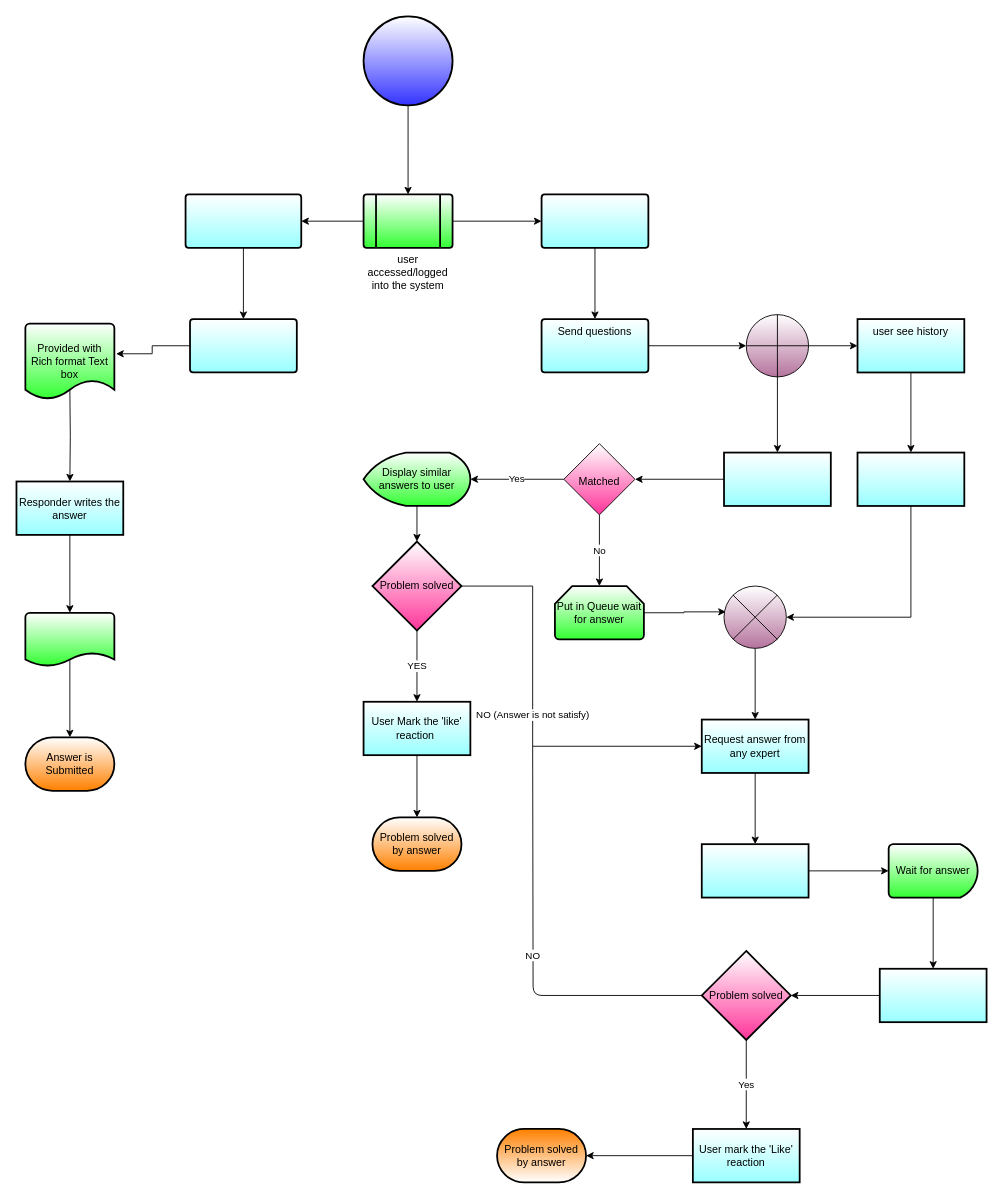
The diagram is 1002 pixels wide and 1198 high, and some of its shapes have lost their labels. The box of each missing label's shape, as (x1, y1, x2, y2) in pixels:
Ask questions: (540, 193, 649, 248)
Confirmation box pop-up: (24, 611, 115, 667)
Got answers: (878, 967, 987, 1023)
Pick a question to answer: (189, 318, 297, 373)
Responder user See questions list Globally: (184, 193, 302, 248)
Start: (362, 15, 453, 106)
System compare with similar asked questions: (723, 451, 831, 506)
Track for professional consultation of his question: (856, 451, 965, 506)
User Check for answers Visually: (700, 843, 809, 898)
